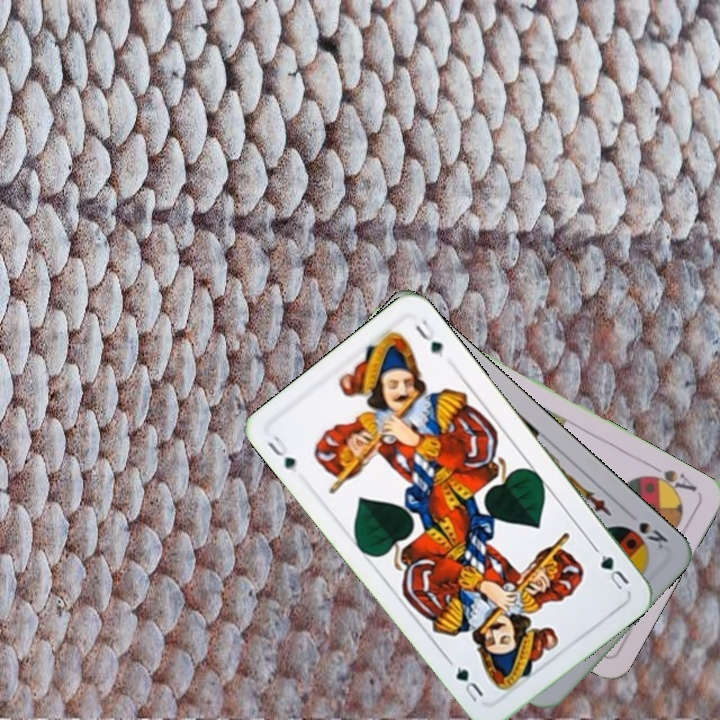GU: (263, 431, 300, 475), (596, 550, 632, 593)
SA: (641, 460, 700, 499)
SK: (621, 518, 671, 552)
